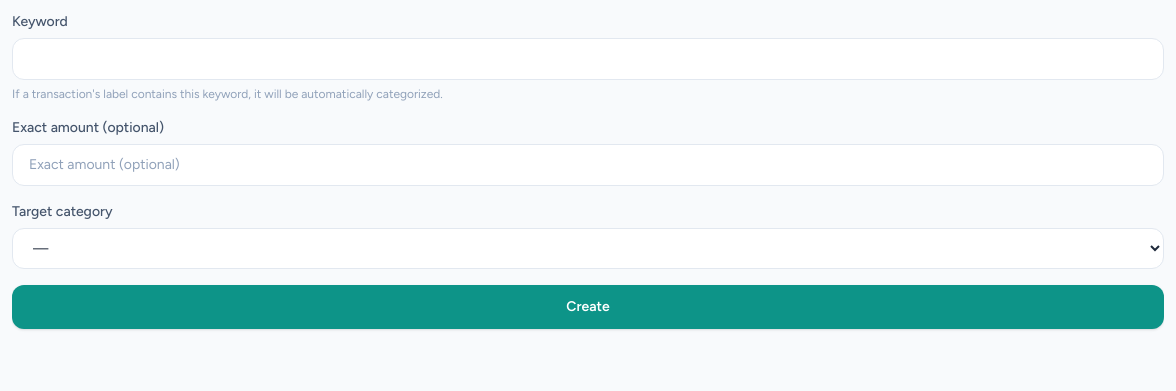
Test: CategoryRuleForm › shows validation error when submitting with empty keyword
What coordinates should you click on to do the following:
click the button "Create"
I would click on:
 (588, 307)
Its box is x1=12 y1=285 x2=1164 y2=329.
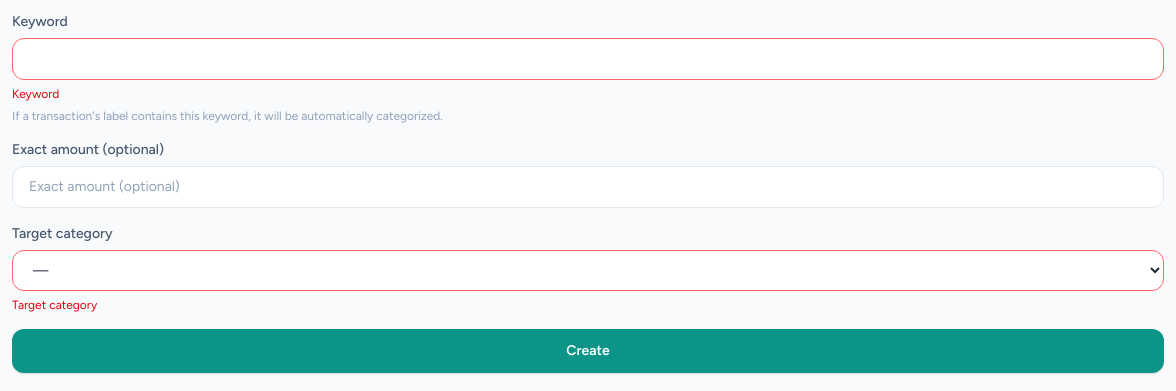
expect the text "Keyword" is shown: met, box x1=12 y1=87 x2=59 y2=101
